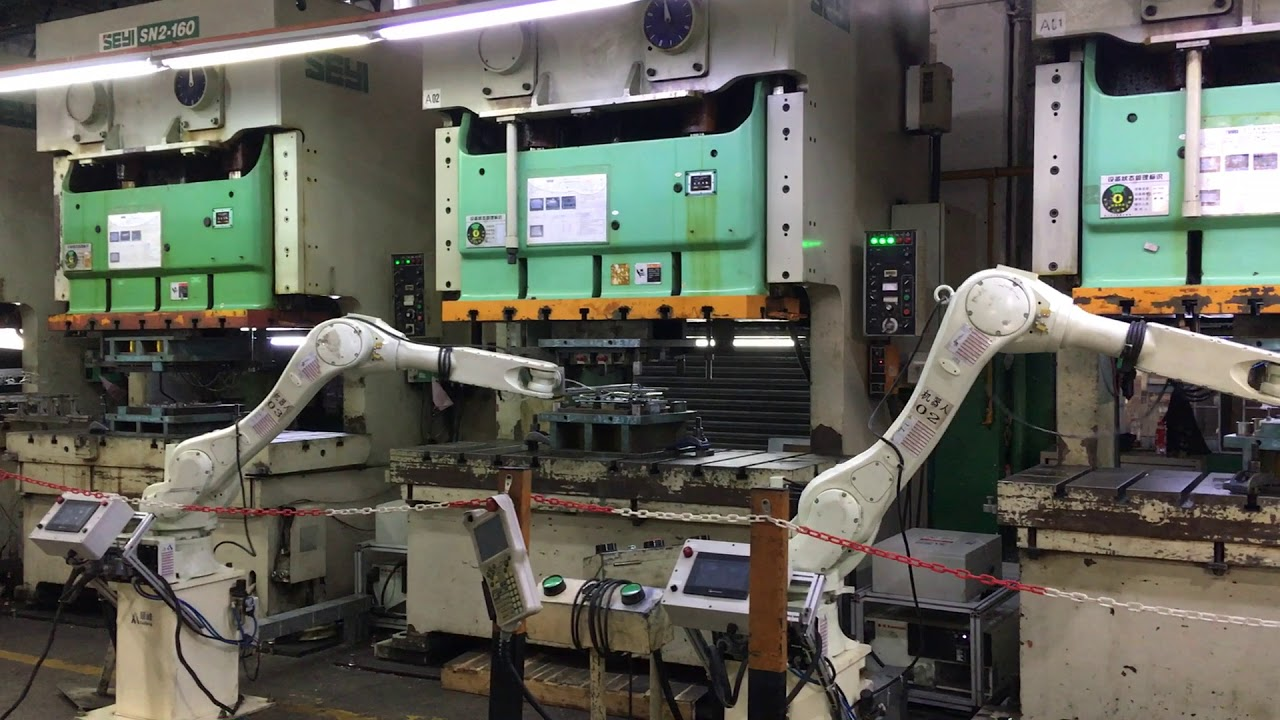robot: (742, 264, 1279, 667), (134, 311, 673, 580)
